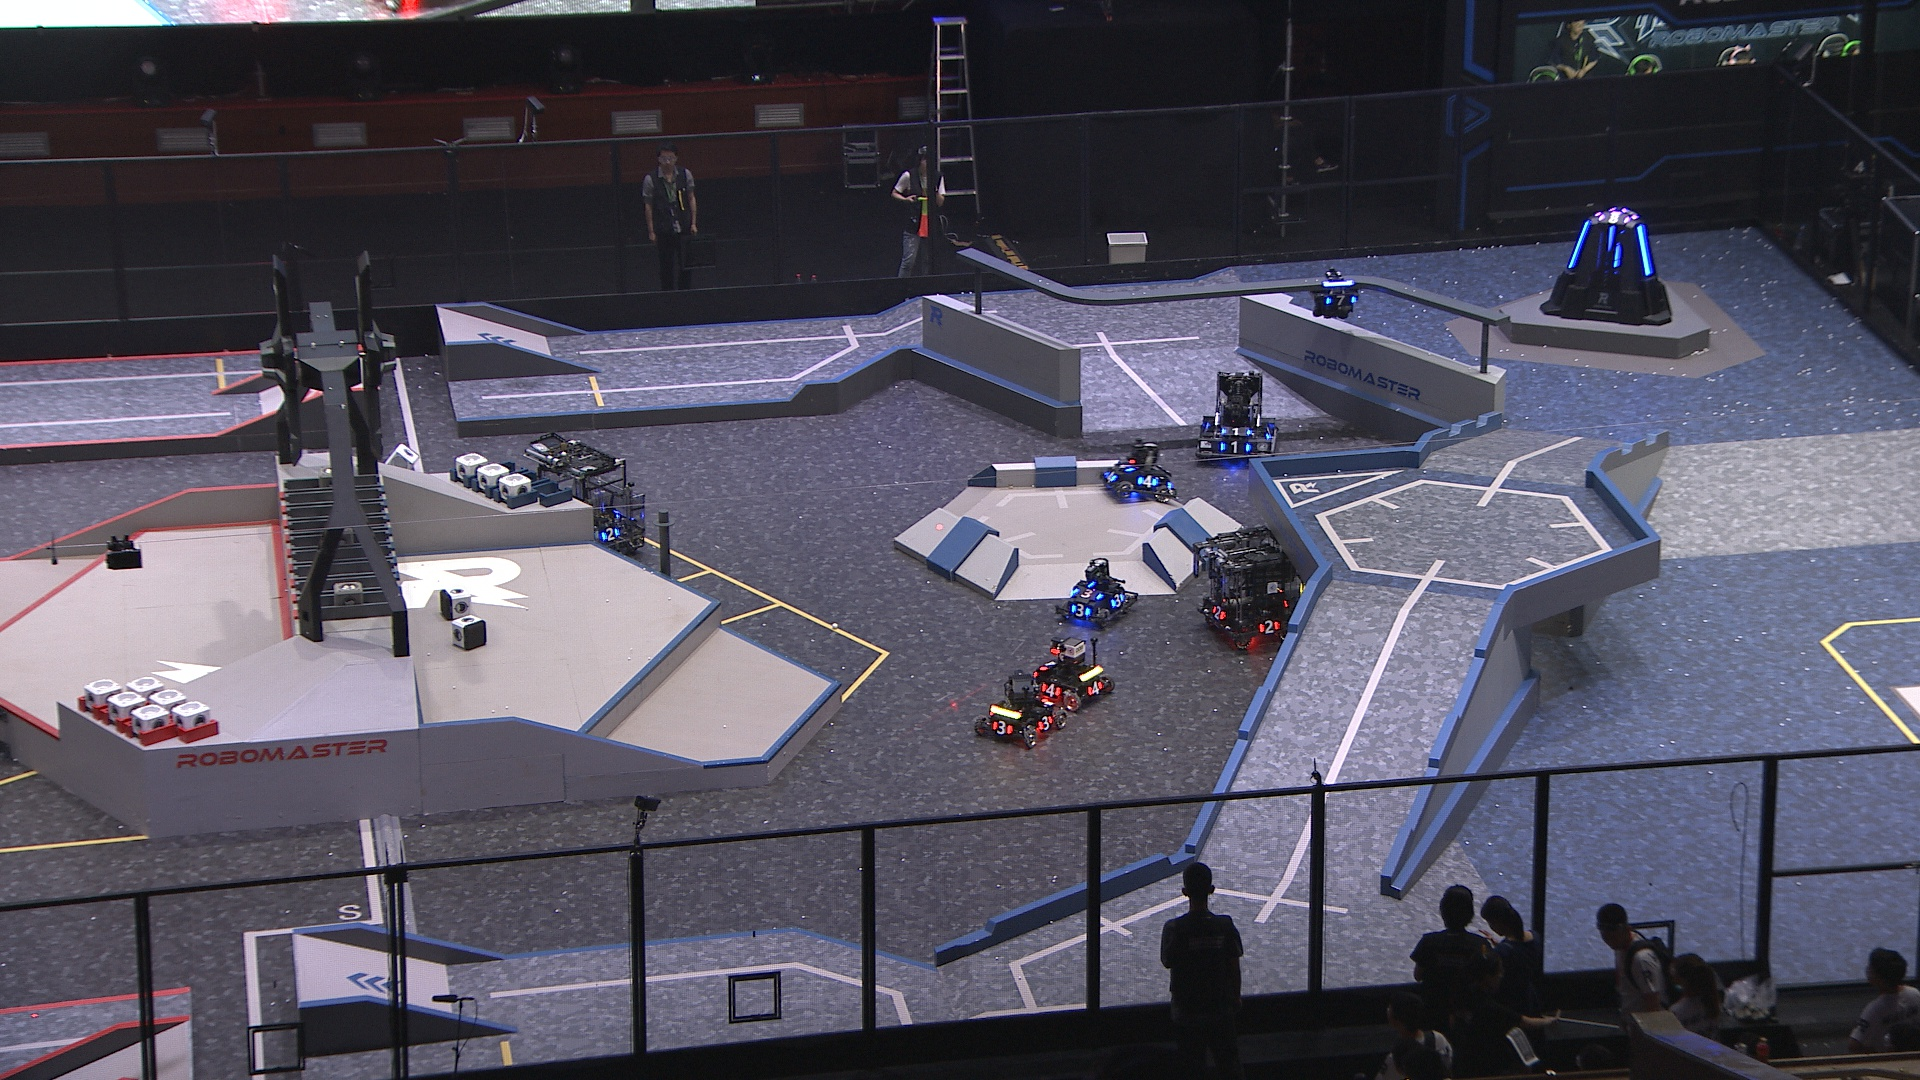armor: (1633, 220, 1658, 278), (1567, 218, 1593, 270), (1218, 438, 1253, 456), (1073, 584, 1106, 603), (1323, 291, 1357, 309), (596, 524, 622, 545), (992, 717, 1017, 738), (1068, 603, 1095, 621), (1039, 678, 1062, 699), (1083, 675, 1102, 698), (1257, 618, 1280, 636), (1034, 713, 1054, 733), (1218, 425, 1251, 436), (1605, 223, 1618, 252), (1117, 458, 1138, 475), (1211, 604, 1229, 622), (1138, 472, 1158, 489), (1109, 589, 1126, 608), (1200, 417, 1215, 436), (1102, 469, 1120, 485), (1040, 659, 1059, 673), (1265, 425, 1276, 440)
base: (1538, 202, 1673, 327)
car: (1191, 520, 1324, 651), (520, 431, 654, 560), (1192, 368, 1283, 469), (973, 669, 1067, 750), (1026, 632, 1117, 709), (1055, 553, 1143, 628), (1096, 436, 1182, 505)
ignore: (1598, 210, 1633, 225)
watcher: (1309, 262, 1361, 323)
